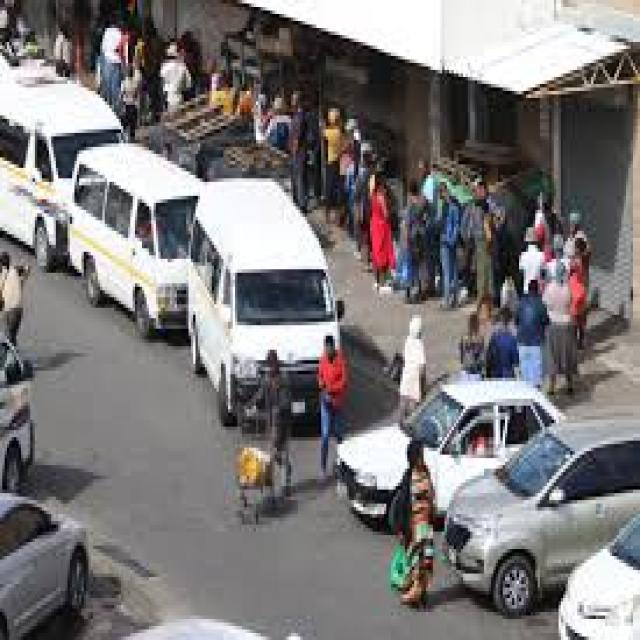MiniBus taxi: (186, 178, 347, 430), (72, 136, 186, 343), (2, 77, 82, 273), (2, 328, 33, 482)
Passenger Car: (337, 381, 596, 535), (440, 416, 640, 605), (2, 489, 97, 640), (547, 518, 640, 636)
Pedestrians: (398, 434, 435, 608), (309, 339, 346, 476)
